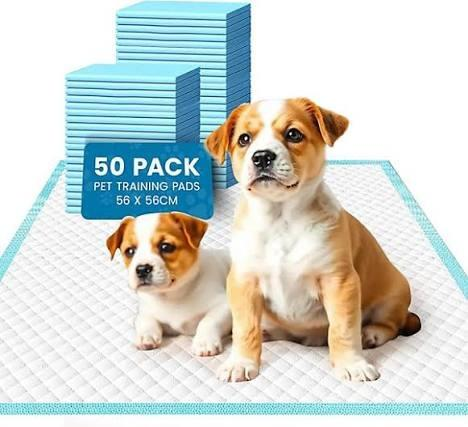adult_dog: (204, 95, 422, 386)
puppy-dog: (108, 211, 235, 359)
